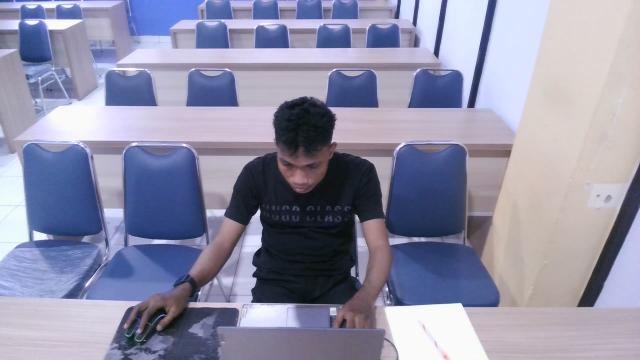Normal_Focus: (206, 87, 397, 360)
